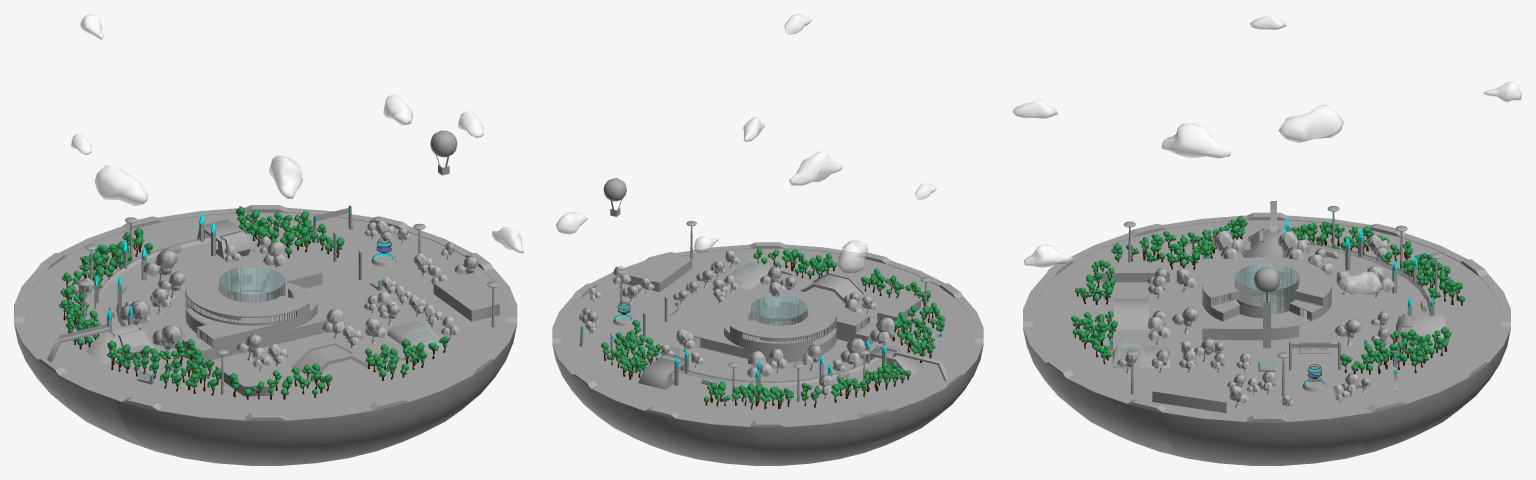
3 renders of one model, left to right at view 1: azimuth 30°, elevation 25°; view 2: azimuth 150°, elevation 25°; view 3: azimuth 270°, elevation 25°, orthographic. The views are drawn at different scales.
Parts seen in each view (by area): view 1: polySurface3, jianzhu, shuye1, ZHANGG, shu1, polySurface1, yun2, ZHANGG2, LUDENG, BOLI, shuzhi, qiu1 (+1 smaller); view 2: polySurface3, jianzhu, shuye1, ZHANGG, shu1, polySurface1, yun2, ZHANGG2, LUDENG, shuzhi, BOLI, qiu1 (+1 smaller); view 3: polySurface3, jianzhu, shuye1, shu1, ZHANGG, polySurface1, yun2, ZHANGG2, LUDENG, BOLI, shuzhi, qiu1.
Part boxes in pixels (bbox=[...]): polySurface3: bbox=[14, 207, 517, 465]; jianzhu: bbox=[47, 219, 499, 396]; shuye1: bbox=[59, 206, 448, 395]; ZHANGG: bbox=[182, 260, 333, 361]; shu1: bbox=[71, 221, 478, 371]; polySurface1: bbox=[122, 252, 415, 372]; yun2: bbox=[71, 14, 523, 253]; ZHANGG2: bbox=[184, 267, 325, 361]; LUDENG: bbox=[78, 205, 499, 394]; BOLI: bbox=[186, 267, 308, 324]; shuzhi: bbox=[63, 214, 445, 399]; qiu1: bbox=[430, 130, 457, 175]; polySurface3: bbox=[552, 244, 983, 465]; jianzhu: bbox=[615, 253, 948, 391]; shuye1: bbox=[601, 248, 944, 403]; ZHANGG: bbox=[677, 289, 878, 362]; shu1: bbox=[579, 249, 894, 399]; polySurface1: bbox=[638, 284, 877, 382]; yun2: bbox=[556, 14, 936, 274]; ZHANGG2: bbox=[676, 296, 874, 362]; LUDENG: bbox=[579, 221, 940, 402]; shuzhi: bbox=[604, 254, 941, 409]; BOLI: bbox=[694, 295, 835, 345]; qiu1: bbox=[603, 178, 626, 216]; polySurface3: bbox=[1023, 215, 1510, 465]; jianzhu: bbox=[1101, 201, 1449, 413]; shuye1: bbox=[1071, 216, 1464, 370]; shu1: bbox=[1117, 230, 1394, 409]; ZHANGG: bbox=[1202, 257, 1331, 353]; polySurface1: bbox=[1170, 271, 1362, 368]; yun2: bbox=[1012, 14, 1521, 295]; ZHANGG2: bbox=[1202, 258, 1331, 353]; LUDENG: bbox=[1109, 206, 1441, 396]; BOLI: bbox=[1236, 263, 1327, 349]; shuzhi: bbox=[1074, 226, 1462, 374]; qiu1: bbox=[1254, 267, 1279, 303].
Bounding box in the file's own units: 19.47 × 16.11 × 20.31.
